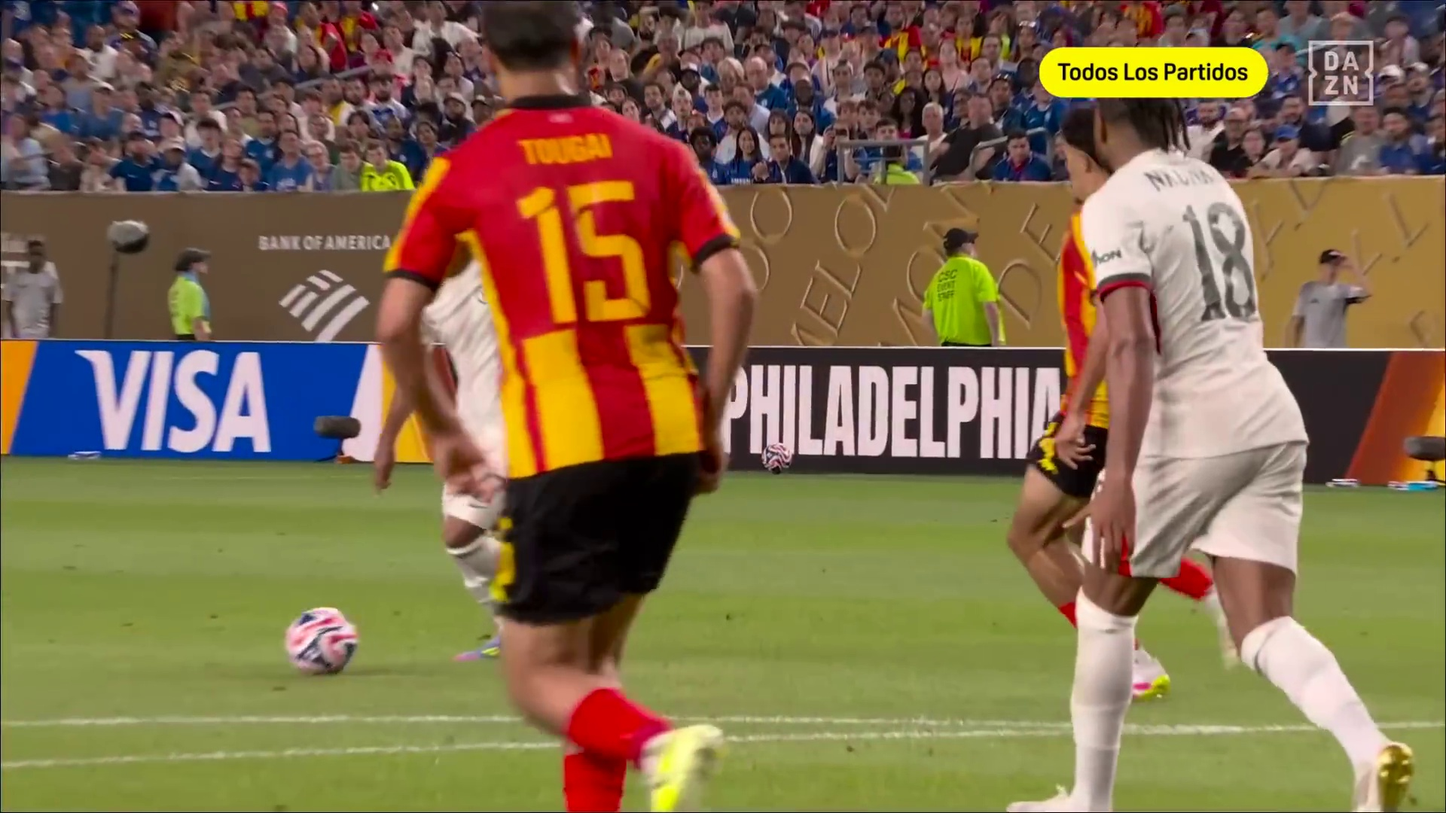ball: (278, 602, 365, 682)
player: (372, 6, 758, 813), (998, 81, 1423, 813), (1009, 108, 1254, 704), (372, 226, 504, 660)
